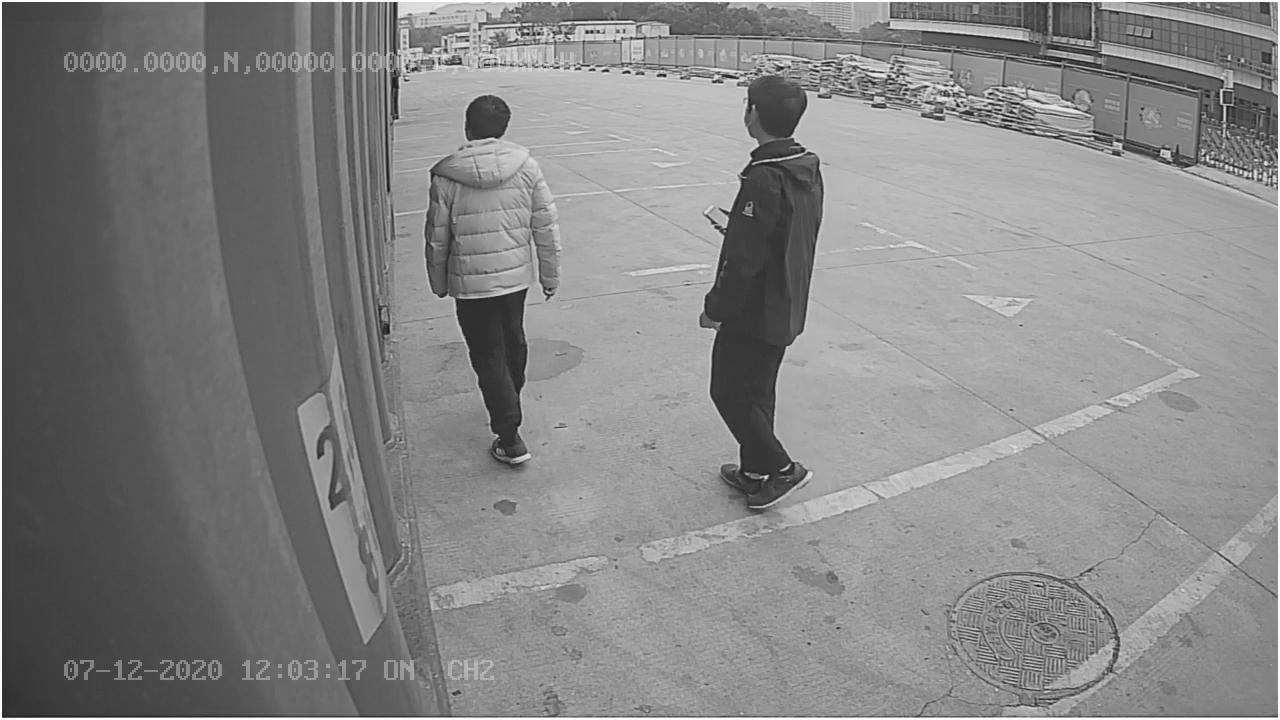person: (690, 73, 824, 506), (423, 95, 569, 467)
